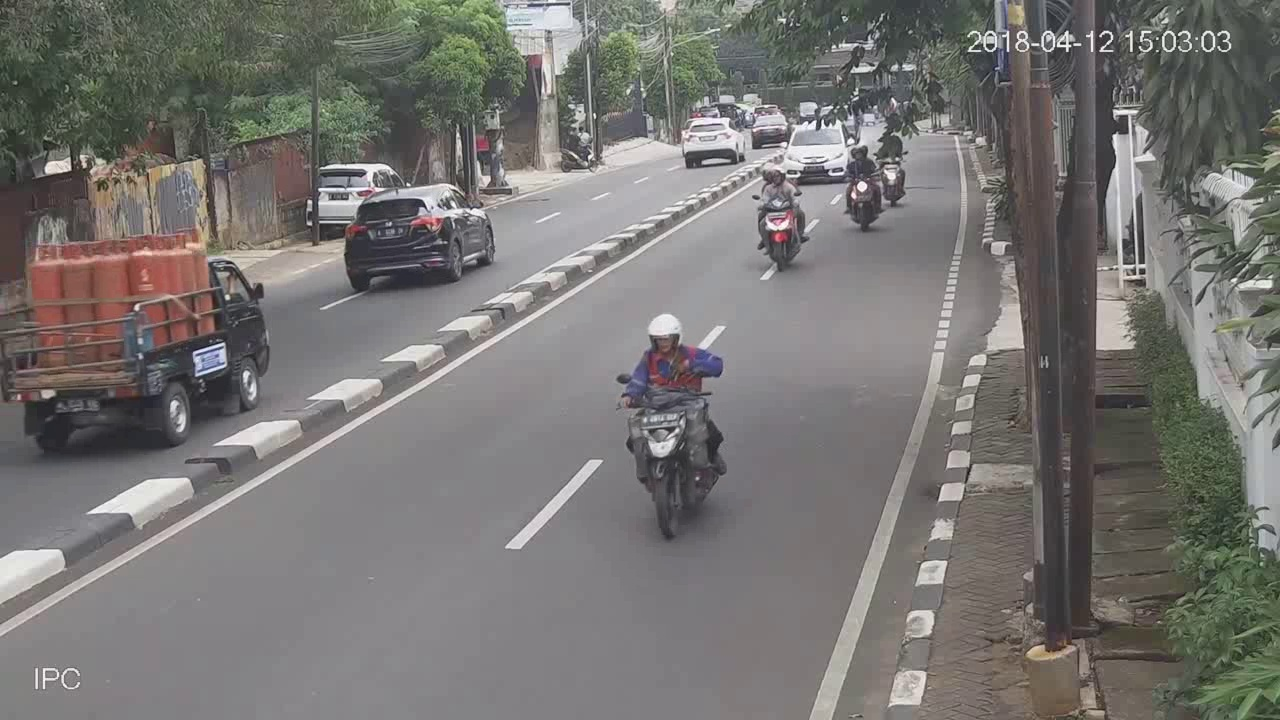car: (343, 180, 499, 293), (300, 157, 377, 231), (780, 124, 849, 181), (680, 114, 741, 168)
motorcycle: (611, 309, 731, 545), (749, 158, 812, 277), (842, 145, 885, 231)
truck: (1, 227, 269, 449)
